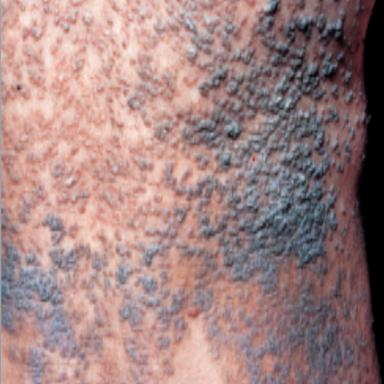Darier_s-Disease: (1, 2, 379, 382)
